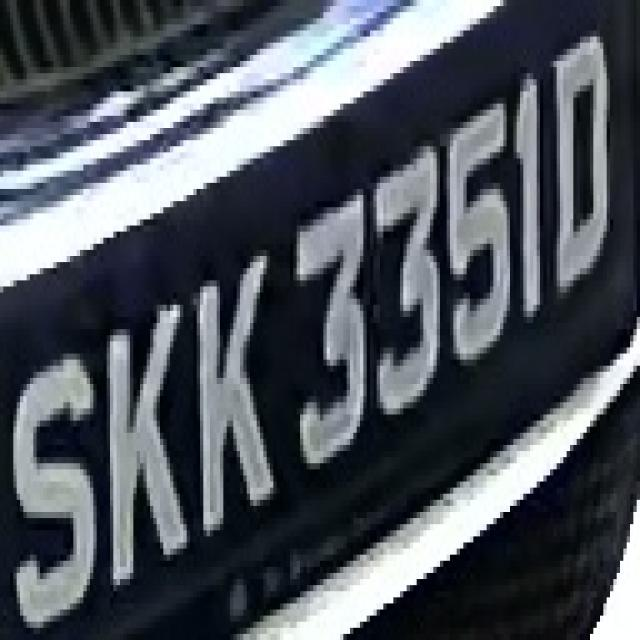1: (500, 49, 557, 323)
3: (360, 146, 450, 433), (287, 189, 373, 475)
5: (443, 110, 510, 378)
D: (540, 30, 617, 298)
K: (86, 311, 196, 597), (183, 244, 280, 548)
S: (10, 341, 97, 622)
